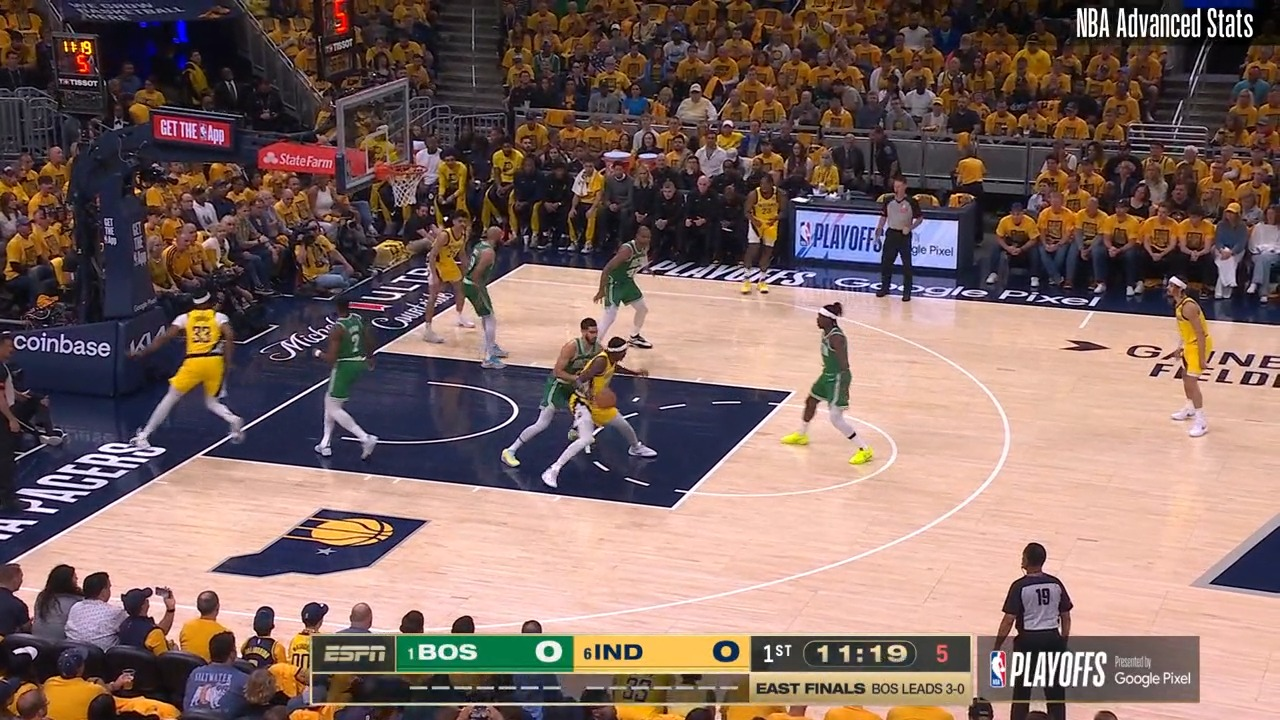basketball: (593, 385, 620, 413)
